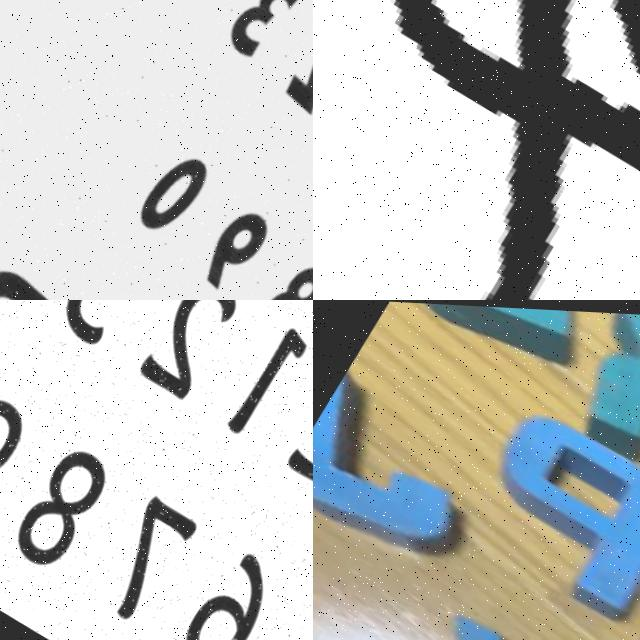0: (110, 124, 233, 266)
1: (211, 300, 313, 451)
2: (118, 300, 266, 415), (268, 0, 313, 133)
3: (38, 300, 174, 356), (208, 0, 313, 71)
5: (244, 565, 313, 640)
6: (160, 518, 308, 640)
7: (88, 472, 218, 632)
8: (0, 418, 138, 591), (236, 231, 313, 300)
9: (175, 180, 293, 300), (0, 365, 53, 539)
K: (553, 307, 640, 493)
P: (436, 383, 640, 630)
